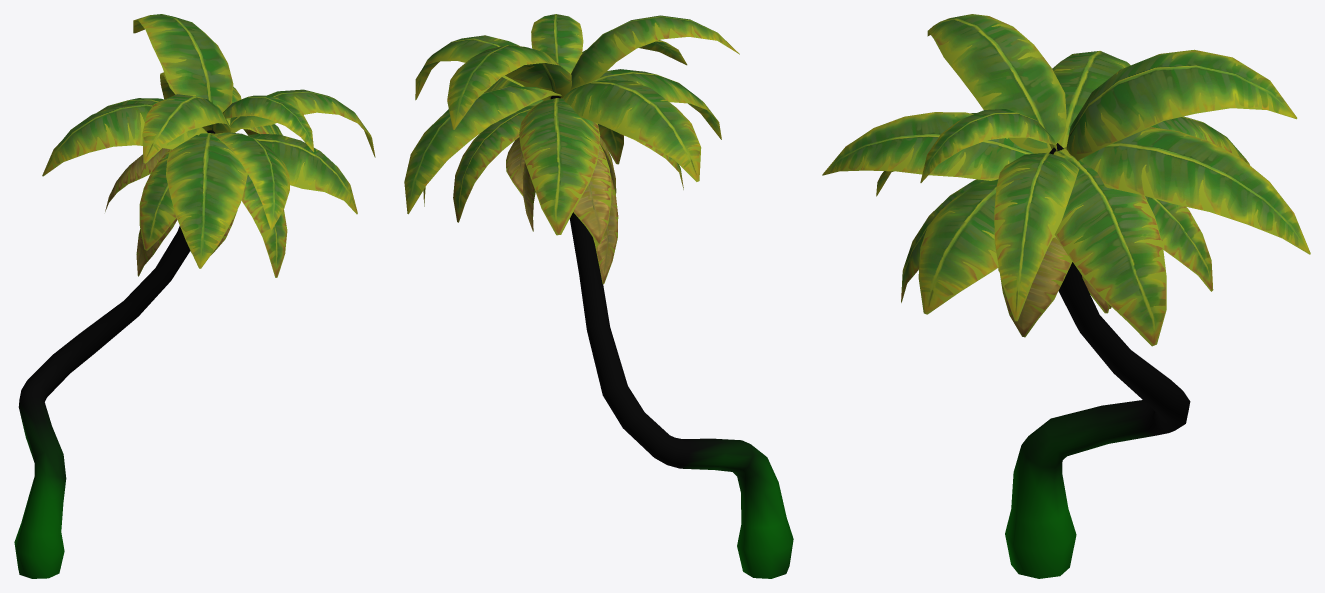
Rendered from P_PalmTree09.obj.
3 views of the same model, side by side, from view 1: azimuth 30°, elevation 25°; view 2: azimuth 150°, elevation 25°; view 3: azimuth 270°, elevation 25° (orthographic). The views are drawn at different scales.
Size of the model in its own units: 8.55 by 10.87 by 7.62.
